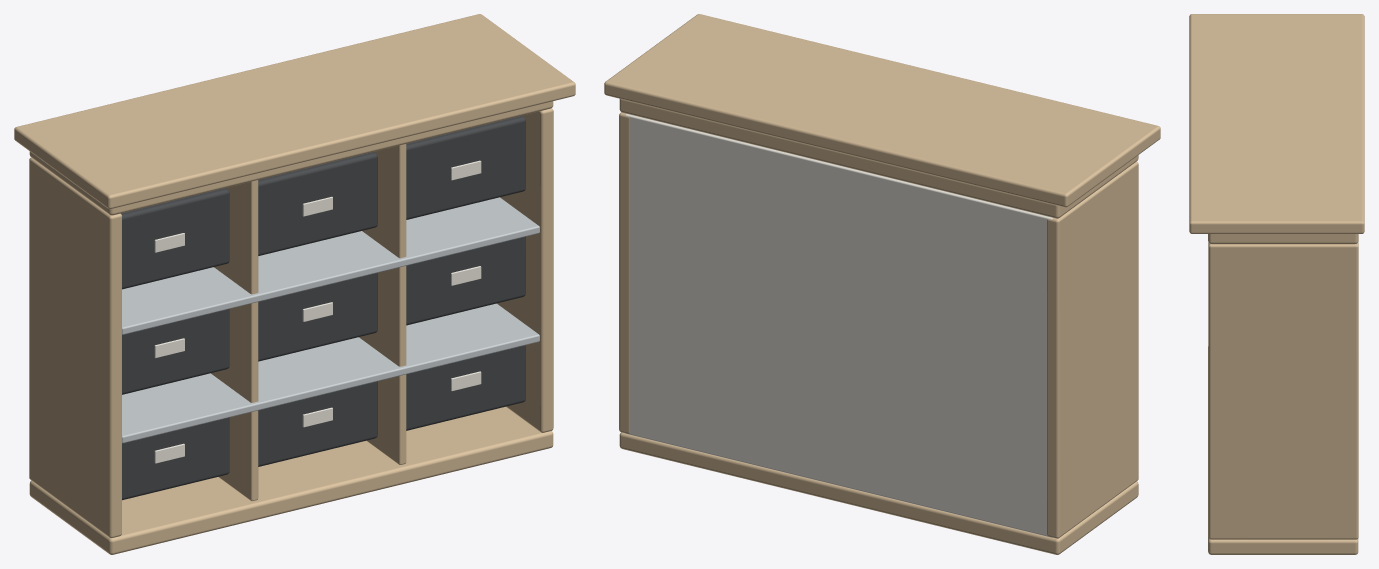
The model's file is camera-repair-and-darkroom-laboratory-customer-repair--1a5f02be__31816.glb.
The picture shows the model from 3 angles, left to right: view 1: azimuth 30°, elevation 25°; view 2: azimuth 150°, elevation 25°; view 3: azimuth 270°, elevation 25°; orthographic projection. The views are drawn at different scales.
Visible parts, largest first — view 1: customer-repair-collection-cabinet; view 2: customer-repair-collection-cabinet; view 3: customer-repair-collection-cabinet.
Boxes of the visible parts, bbox=[...] form: customer-repair-collection-cabinet: bbox=[14, 14, 575, 554]; customer-repair-collection-cabinet: bbox=[604, 14, 1160, 554]; customer-repair-collection-cabinet: bbox=[1189, 14, 1364, 554].
Bounding box in the file's own units: 1.58 × 1.2 × 0.56.
